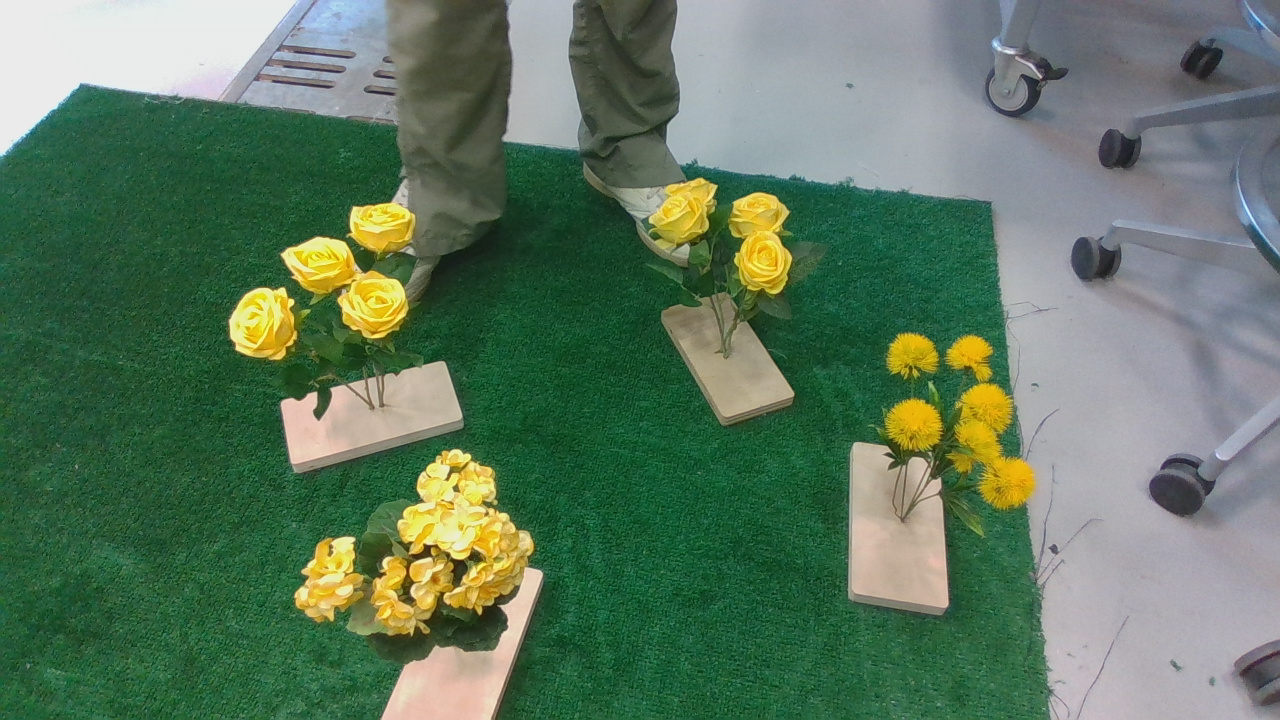dandelion: (853, 328, 1046, 538)
geranium: (294, 448, 536, 669)
rose: (226, 202, 425, 428), (652, 178, 837, 377)
